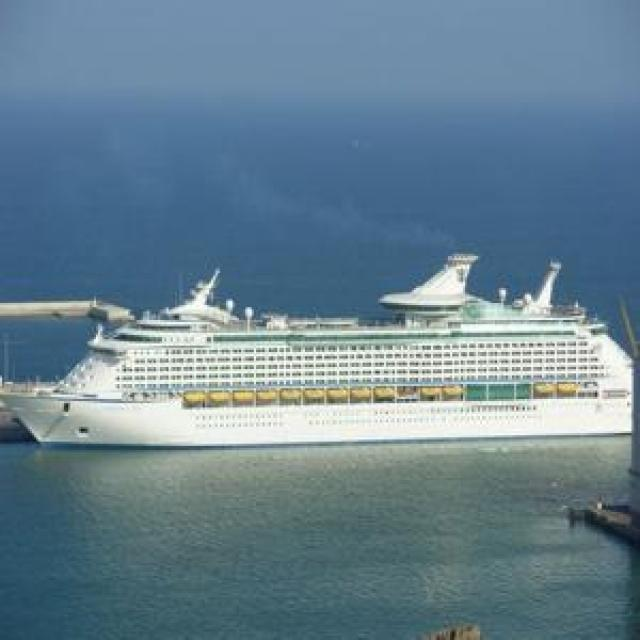passenger ship: (7, 282, 638, 436)
